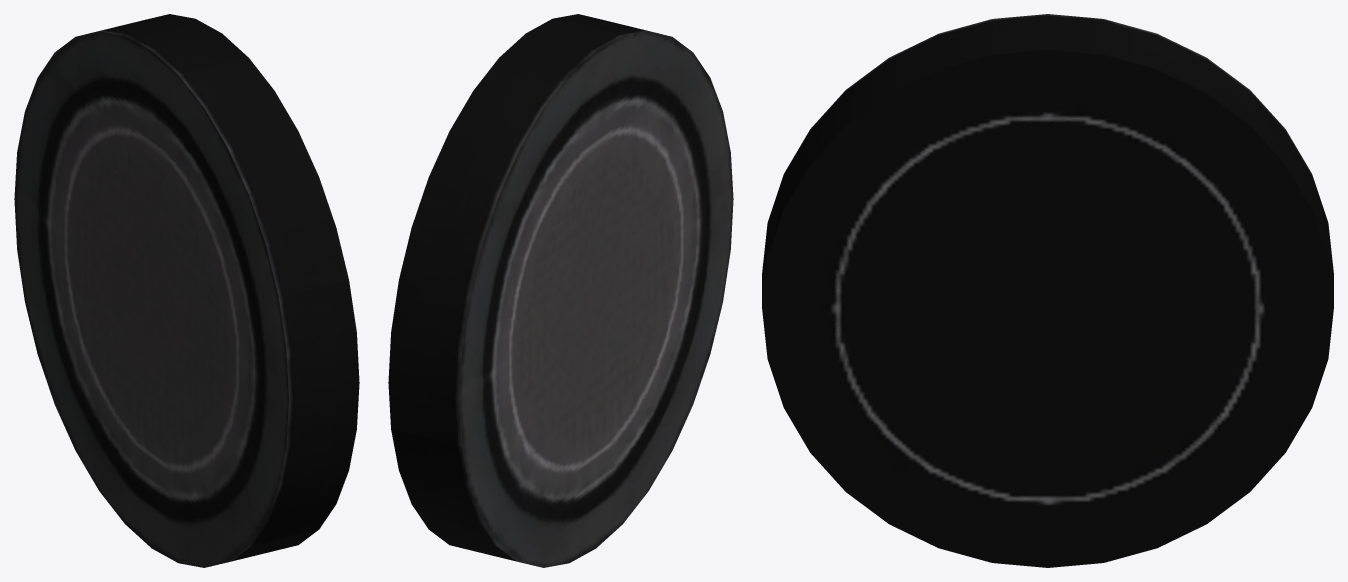
Rendered from shaft__left_shoulder.glb.
3 renders of one model, left to right at view 1: azimuth 30°, elevation 25°; view 2: azimuth 150°, elevation 25°; view 3: azimuth 270°, elevation 25°, orthographic. The views are drawn at different scales.
Visible parts, largest first — view 1: geometry_0; view 2: geometry_0; view 3: geometry_0.
Part boxes in pixels (<box>): geometry_0: <box>14,14,359,567</box>; geometry_0: <box>388,14,733,567</box>; geometry_0: <box>762,14,1333,567</box>.
Bounding box in the file's own units: 0.004 × 0.027 × 0.027.
1 material, 1 textured.
